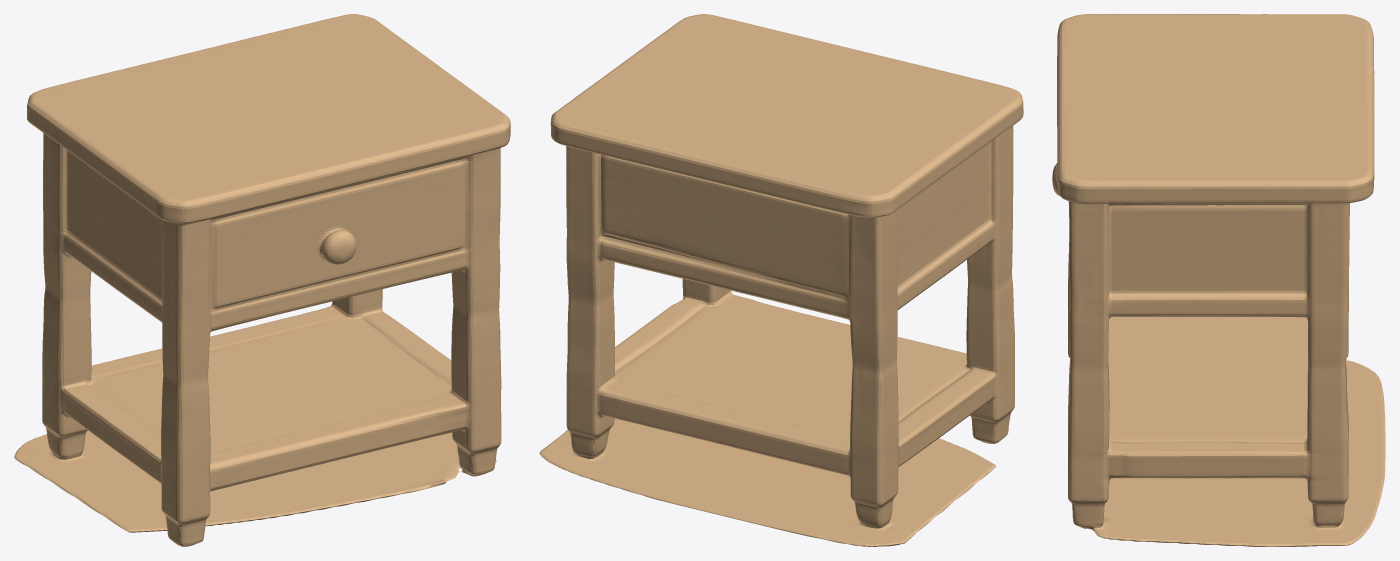
Rendered from 目标公寓_原木床头柜_Modly低清试件.fbx.
3 views of the same model, side by side, from view 1: azimuth 30°, elevation 25°; view 2: azimuth 150°, elevation 25°; view 3: azimuth 270°, elevation 25° (orthographic). The views are drawn at different scales.
Visible parts, largest first — view 1: geometry_0; view 2: geometry_0; view 3: geometry_0.
Boxes of the visible parts, x1=… form: geometry_0: x1=14, y1=14, x2=510, y2=546; geometry_0: x1=539, y1=14, x2=1023, y2=546; geometry_0: x1=1052, y1=14, x2=1385, y2=546.
Bounding box in the file's own units: 200 × 180 × 152.
